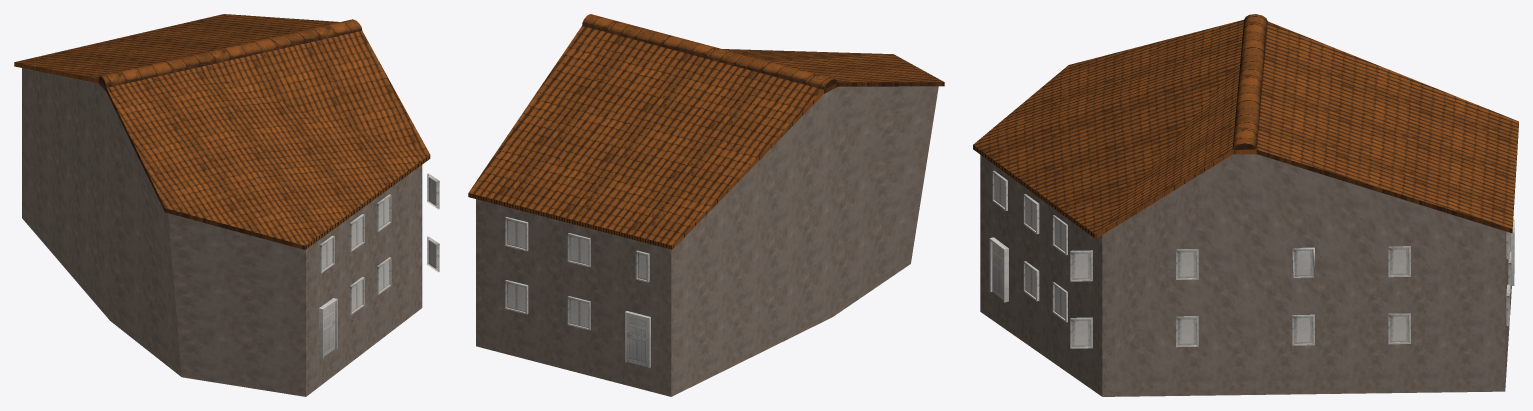
File: Casa_6.fbx
3 renders of one model, left to right at view 1: azimuth 30°, elevation 25°; view 2: azimuth 150°, elevation 25°; view 3: azimuth 270°, elevation 25°, orthographic. The views are drawn at different scales.
Parts seen in each view (by area): view 1: Casa_6; view 2: Casa_6; view 3: Casa_6.
Part boxes in pixels (x1=…): Casa_6: x1=14, y1=14, x2=439, y2=396; Casa_6: x1=468, y1=14, x2=944, y2=396; Casa_6: x1=973, y1=14, x2=1518, y2=396.
Size of the model in its own units: 11.7 by 9.79 by 18.68.
